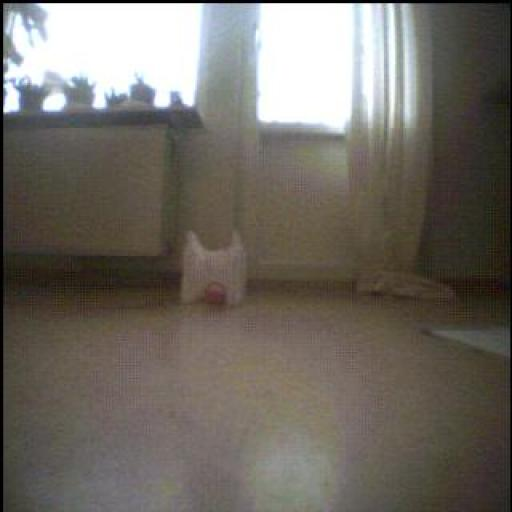Basket: (205, 280, 226, 308)
